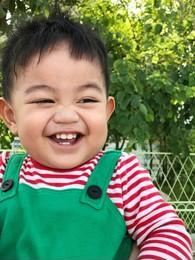face: (14, 69, 106, 168)
